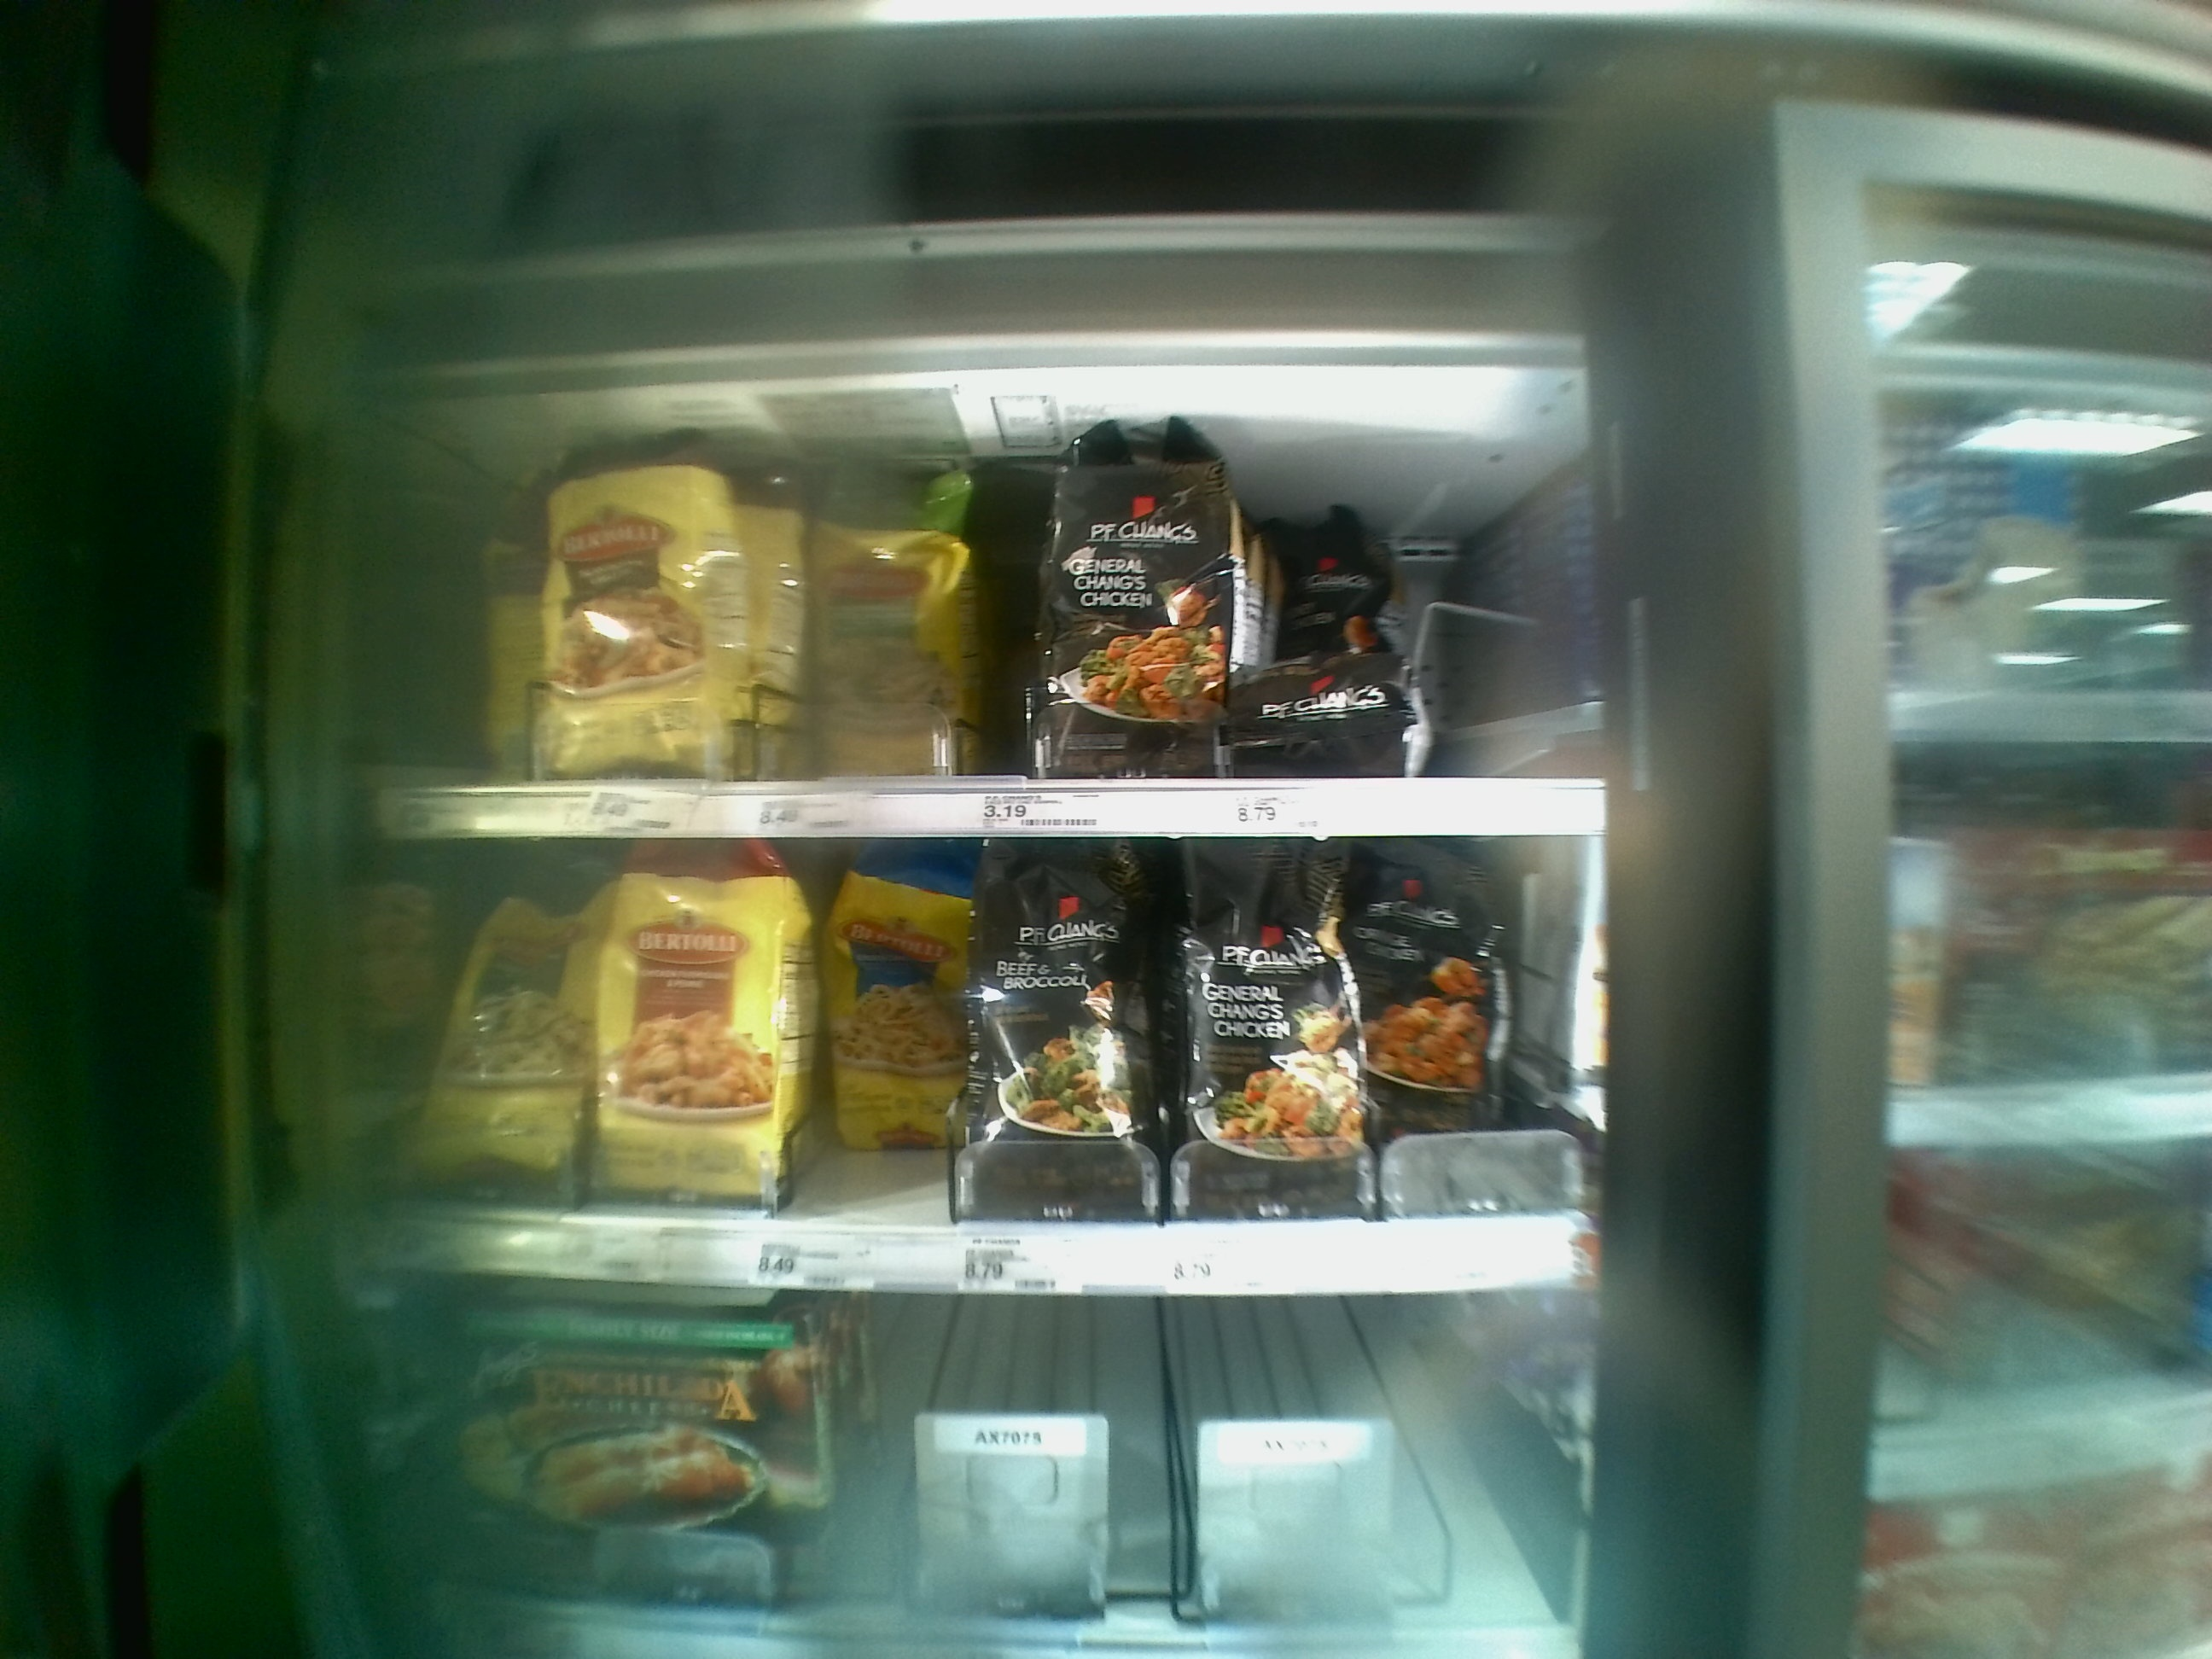shelf: (362, 329, 1623, 838), (352, 843, 1578, 1295), (355, 1297, 1581, 1659)
